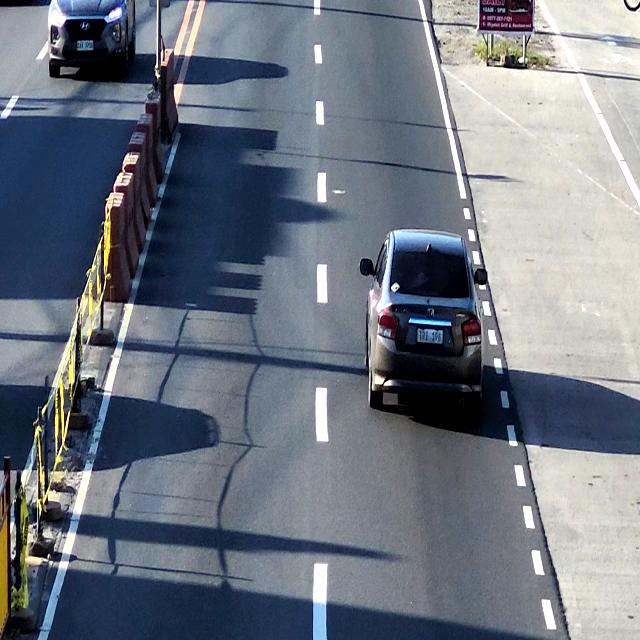Car: (364, 228, 483, 420)
License-Plate: (417, 328, 443, 349)
